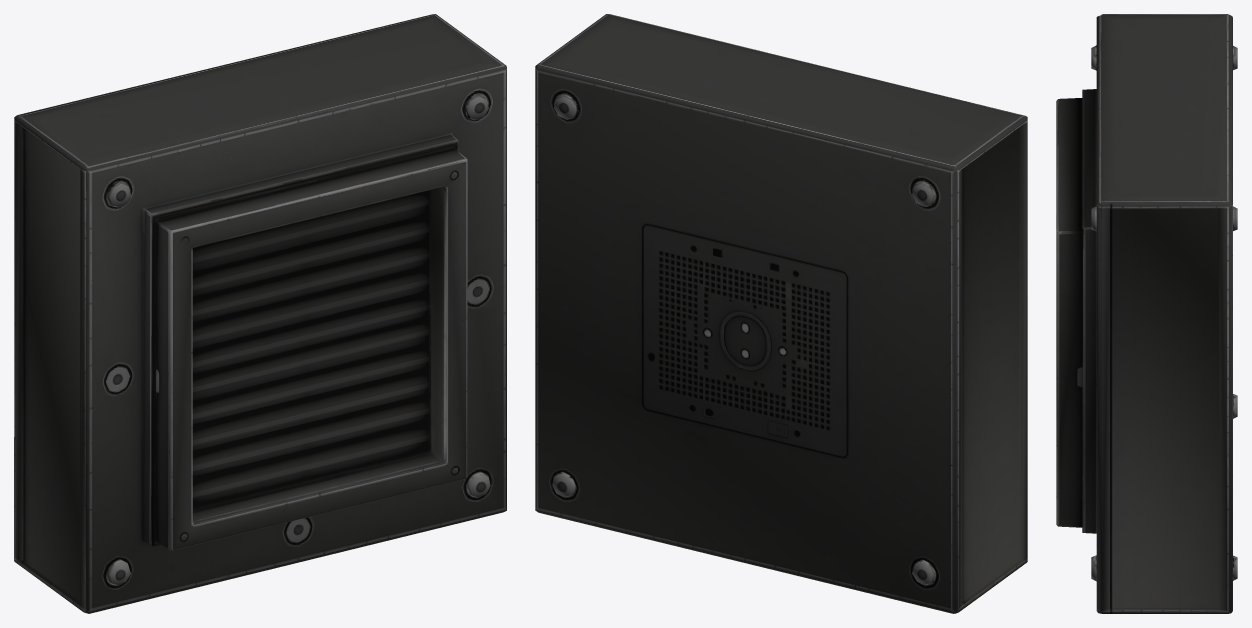
File: Vent.fbx
3 renders of one model, left to right at view 1: azimuth 30°, elevation 25°; view 2: azimuth 150°, elevation 25°; view 3: azimuth 270°, elevation 25°, orthographic. The views are drawn at different scales.
Visible parts, largest first — view 1: tripo_node_7e4d374c; view 2: tripo_node_7e4d374c; view 3: tripo_node_7e4d374c.
Boxes of the visible parts, x1,y1,x2,y2 form: tripo_node_7e4d374c: (14,14,506,613); tripo_node_7e4d374c: (535,14,1027,613); tripo_node_7e4d374c: (1056,14,1237,613).
Bounding box in the file's own units: 0.9863 × 0.998 × 0.3965.
